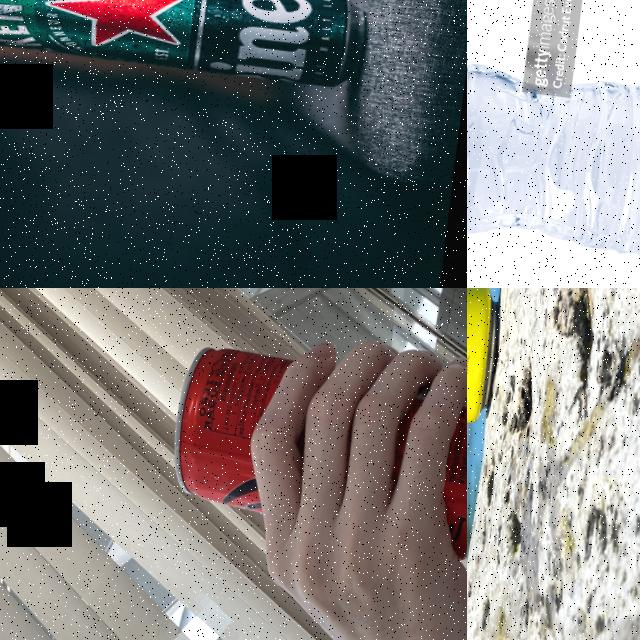bottle: (467, 21, 640, 266)
can: (162, 337, 467, 566), (0, 0, 369, 90)
